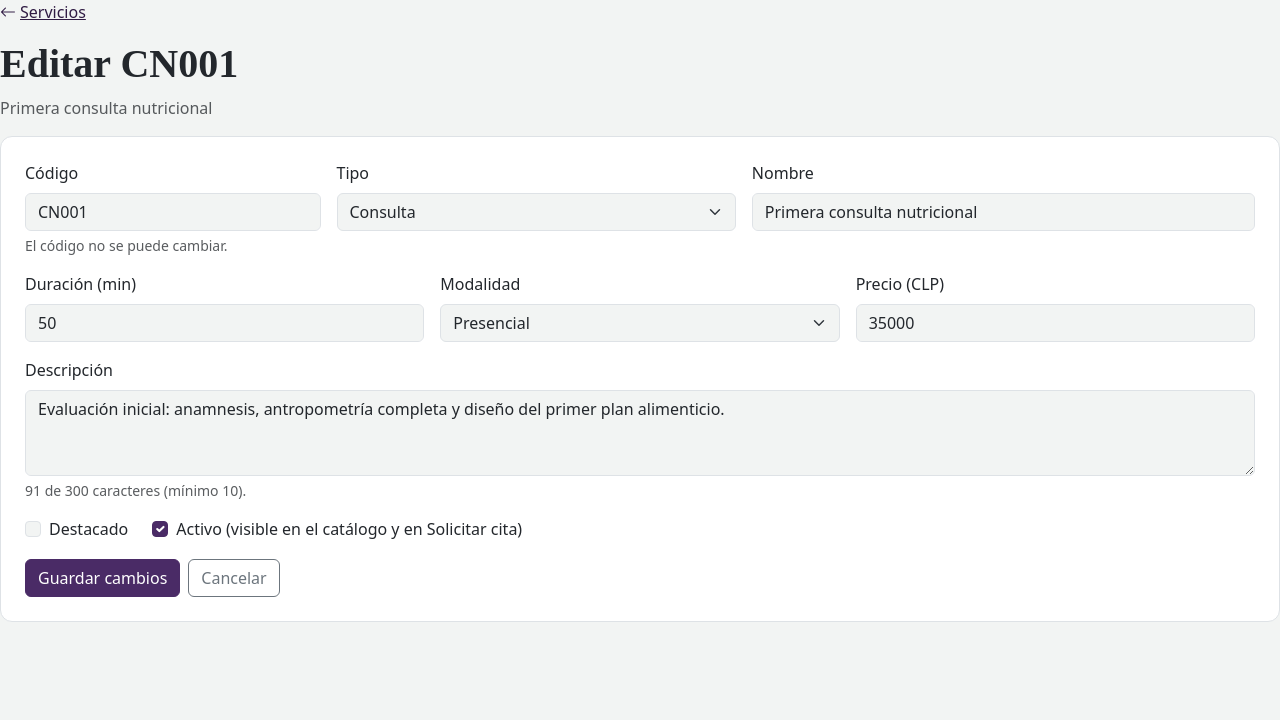
Scenario: ServicioFormulario › edita el precio y vuelve al listado con el aviso
This screenshot has width=1280, height=720.
Expected: the heading "Editar CN001" is shown, [0,41,238,86]
Replace the text in the number field labelled "Precio (CLP)" with "36000" at (1055, 323), box [856,304,1255,342]
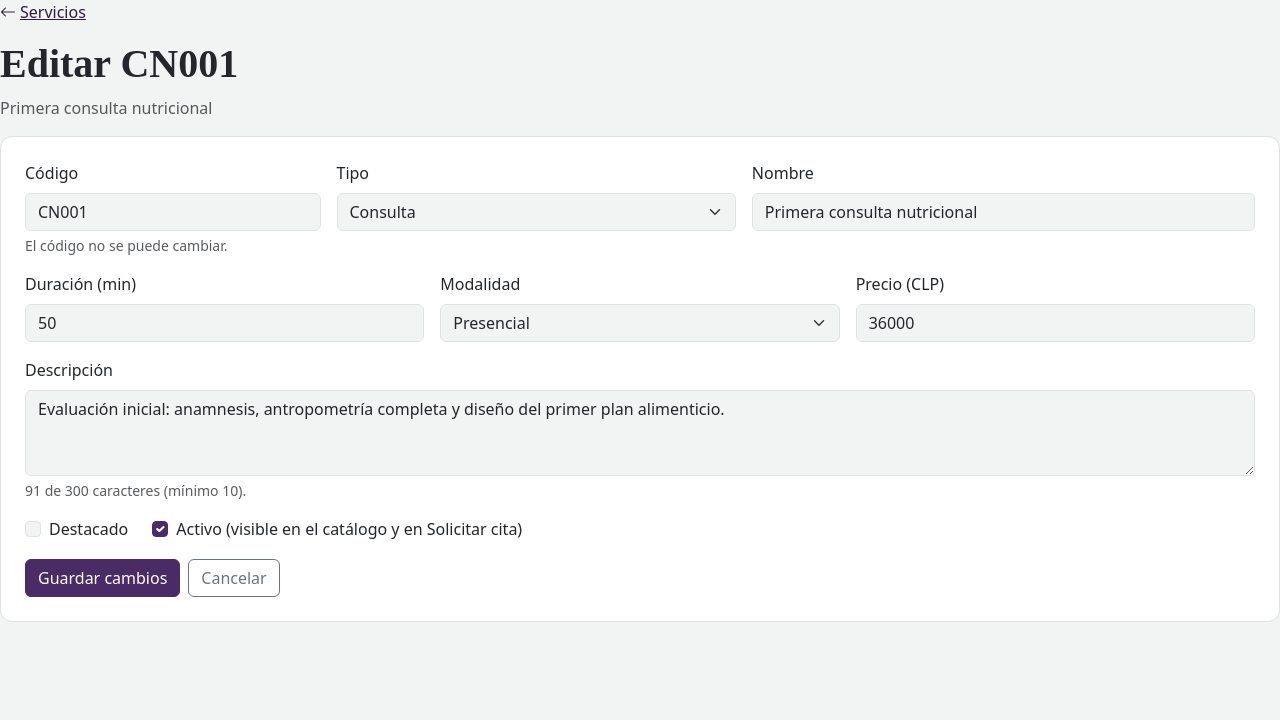
Click the button "Guardar cambios" at (103, 578), box [25,559,180,597]
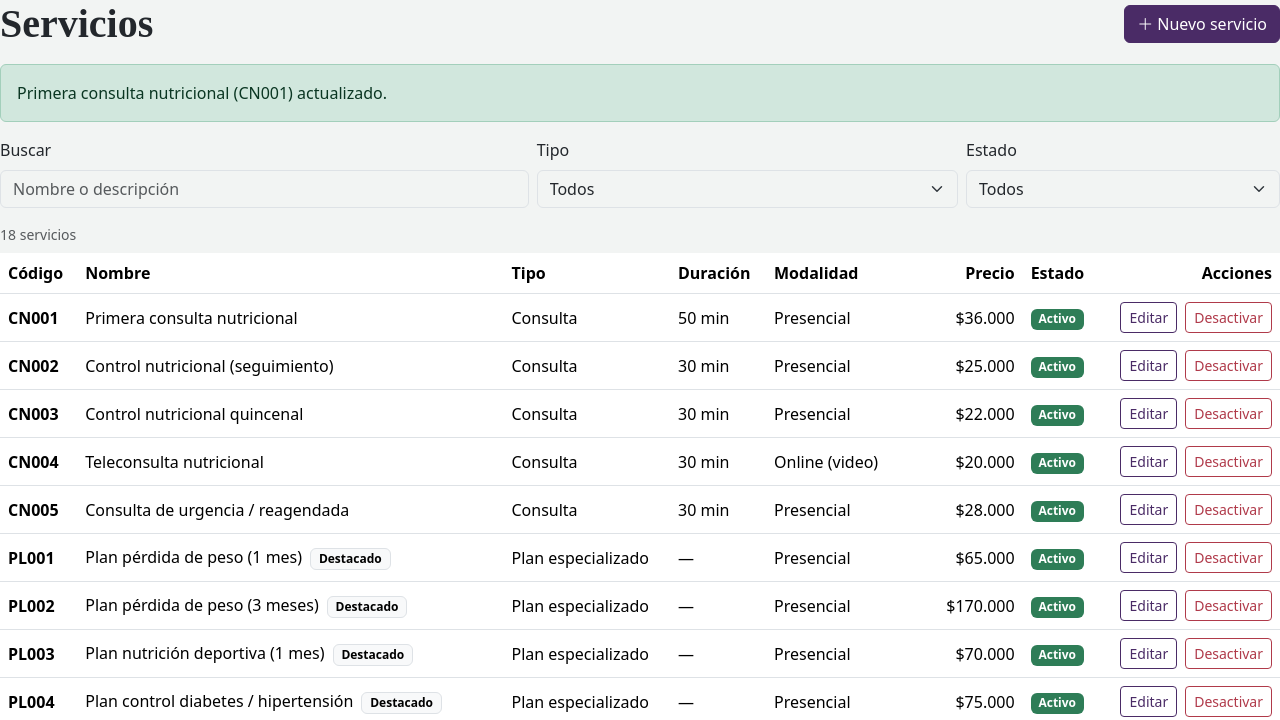
Result: the message reads "Primera consulta nutricional (CN001) actualizado." at [17,82,387,104]
